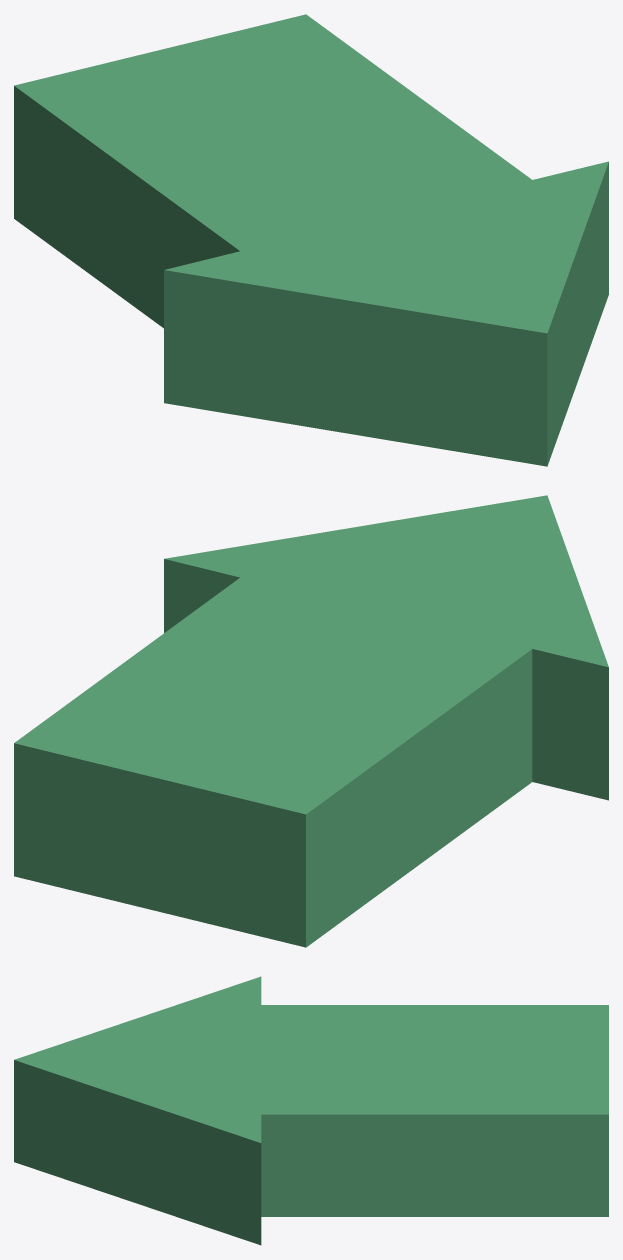
Rendered from arrow.fbx.
3 views of the same model, one above another, from view 1: azimuth 30°, elevation 25°; view 2: azimuth 150°, elevation 25°; view 3: azimuth 270°, elevation 25° (orthographic). The views are drawn at different scales.
Visible parts, largest first — view 1: Cube; view 2: Cube; view 3: Cube.
Boxes of the visible parts, x1,y1,x2,y2 form: Cube: (14, 14, 608, 466); Cube: (14, 495, 608, 947); Cube: (14, 976, 608, 1245).
Bounding box in the file's own units: 141 × 40.34 × 213.
